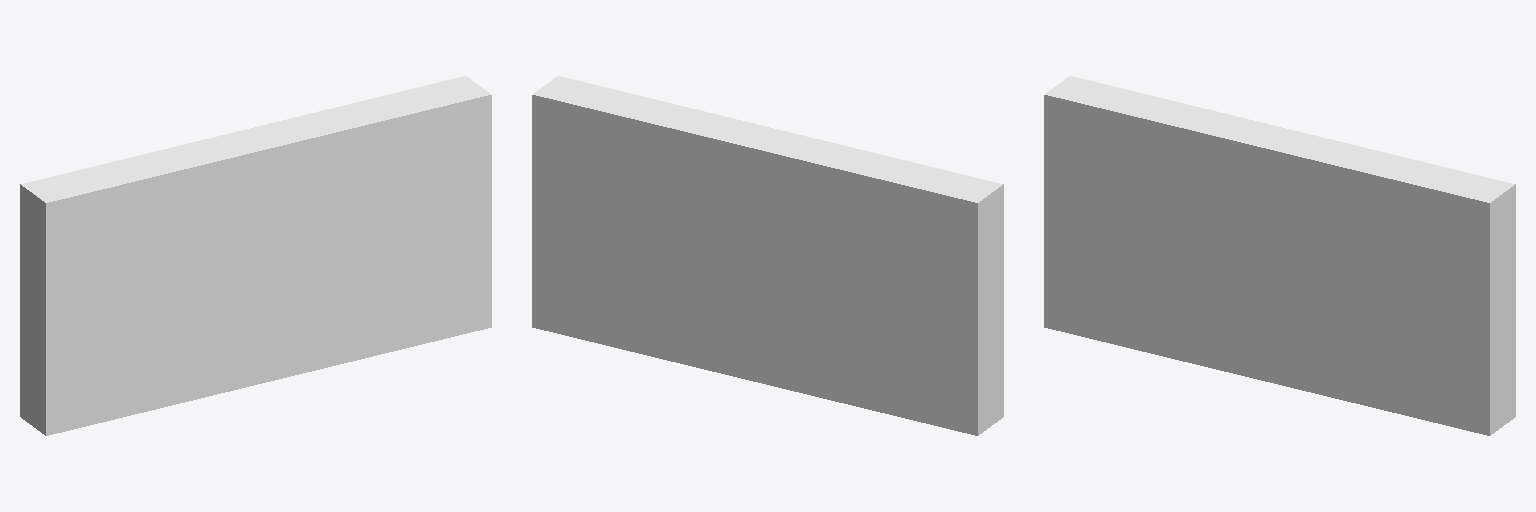
The robot description file, URDF, robot "wall":
<?xml version="0.0" ?>
<robot name="wall">
  <link name="root">
    <contact>
      <lateral_friction value="1.5"/>
    </contact>
    <inertial>
      <origin rpy="0 0 0" xyz="0 0 0"/>
      <mass value=".0"/>
      <inertia ixx="0" ixy="0" ixz="0" iyy="0" iyz="0" izz="0"/>
    </inertial>
    <visual>
      <origin rpy="0 0 0" xyz="0 0 0"/>
      <geometry>
        <mesh filename="wall.obj" scale="2.0 0.2 1"/>
      </geometry>
       <material name="white">
        <color rgba="1 1 1 1"/>
      </material>
    </visual>
    <collision>
      <origin rpy="0 0 0" xyz="0 0 0"/>
      <geometry>
        <box size="2.0 0.2 1"/>
      </geometry>
    </collision>
  </link>
</robot>

--- What the picture shows (computed from the rendered views, not written in the file) ---
The picture shows the robot from 3 angles, left to right: view 1: azimuth 30°, elevation 25°; view 2: azimuth 150°, elevation 25°; view 3: azimuth 330°, elevation 25°; orthographic projection.
Model wall with 1 links and 0 joints (none), rooted at root, posed all joints at 0.
Visible links, largest first — view 1: root; view 2: root; view 3: root.
Link boxes in pixels (x1,y1,x2,y2): root: [20, 76, 491, 435]; root: [532, 76, 1003, 435]; root: [1044, 76, 1515, 435].
Bounding box of the posed robot: 2 × 0.2 × 1 m (x, y, z).
Meshes: 1 distinct files referenced, 1 mesh visuals loaded (1 OBJ).